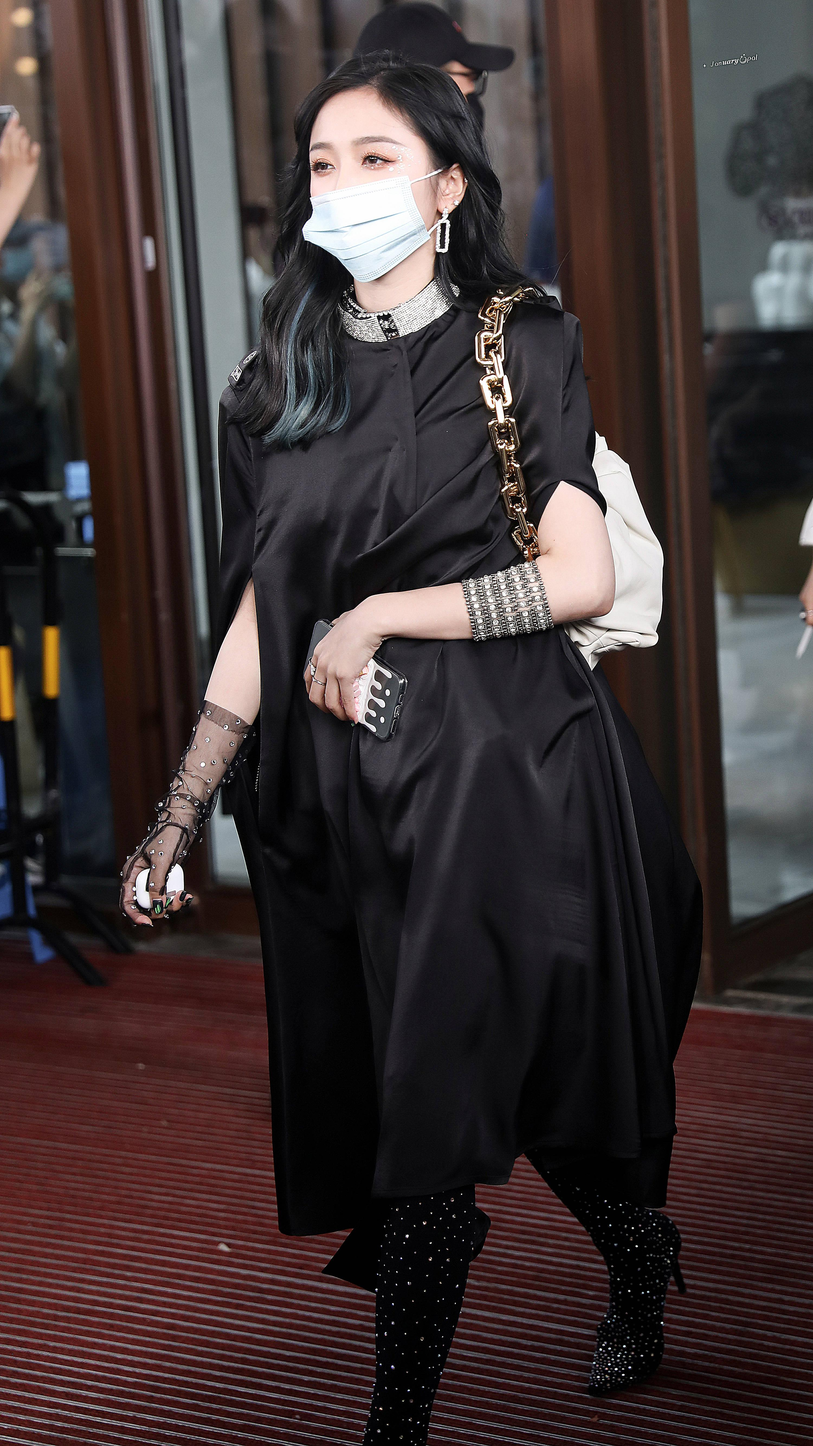OK: (301, 109, 434, 284)
